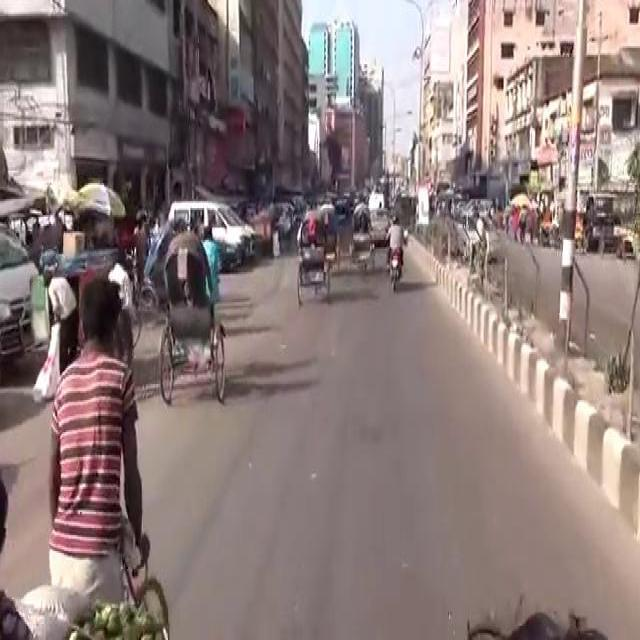car: (454, 208, 500, 258), (368, 203, 392, 245)
minivan: (162, 194, 255, 265)
motorbike: (383, 212, 407, 289)
pickup: (582, 190, 622, 252)
rickshaw: (156, 226, 224, 407), (294, 206, 332, 310), (348, 200, 374, 273)
van: (0, 213, 41, 364)
